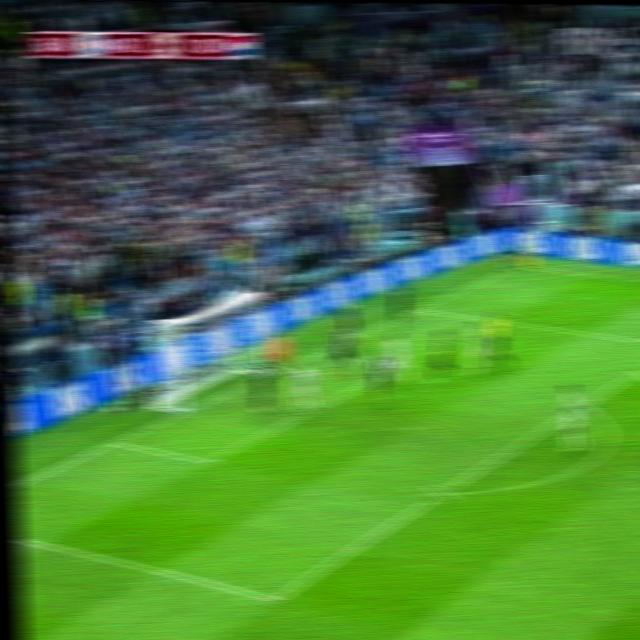bigarea_bottom_inner: (258, 581, 292, 614)
bigarea_top_outter: (406, 299, 428, 317)
bottom_arc_area_intersection: (427, 478, 457, 505)
corner: (500, 258, 526, 272)
smallarea_bottom_inner: (194, 447, 221, 473)
smallarea_bottom_outter: (101, 430, 127, 451)
smallarea_top_inner: (387, 359, 409, 374)
smallarea_top_outter: (309, 341, 332, 359)
top_arc_area_intersection: (570, 394, 594, 416)
